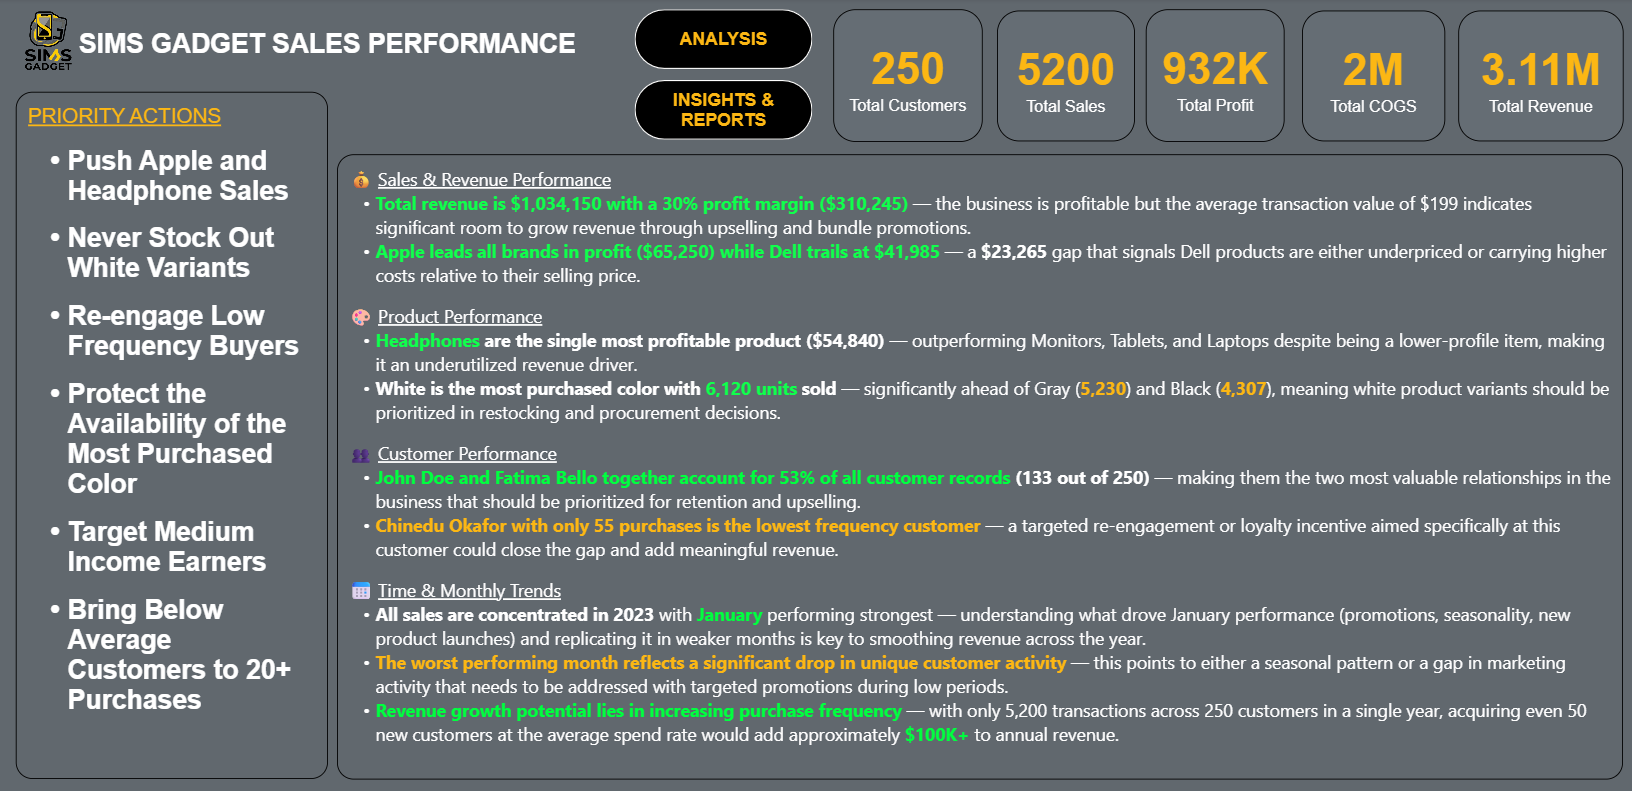

This screenshot's page, from the dashboard's own definition file:
{"tool":"powerbi","page":{"name":"INSIGHTS & REPORTS","canvas":[1480,720],"ordinal":1},"visuals":[{"type":"card","fields":{"Values":["Sum(Sales.Revenue)"]},"box":[1321.2,11.9,149.6,118.7],"z":0},{"type":"card","fields":{"Values":["Sum(Sales.COGS)"]},"box":[1179.9,11.9,129.4,118.7],"z":1000},{"type":"card","fields":{"Values":["Sum(Sales.Profit)"]},"box":[1038.7,10.7,125.8,119.9],"z":2000},{"type":"card","fields":{"Values":["Customers.Total Customers"]},"box":[756.1,10.7,135.3,119.9],"z":3000},{"type":"textbox","box":[55.8,23.7,486.7,54.6],"z":4000},{"type":"card","fields":{"Values":["Sales.Total Purchase"]},"box":[904.5,11.9,124.6,118.7],"z":5000},{"type":"image","box":[0,1.2,92.6,76],"z":6000},{"type":"textbox","box":[17,84.8,282.7,621.9],"z":7000},{"type":"textbox","box":[307.5,141.3,1163.4,565.3],"z":8000},{"type":"pageNavigator","box":[576.9,10.7,161.4,119.9],"z":9000}]}

Visuals, with their boxes in screenshot pixels (x1, y1, x2, y2), scaled from the page's 1480x720 canvas onto the 1632x791 screenshot:
card - Sum(Sales.Revenue): <region>1457, 13, 1622, 143</region>
card - Sum(Sales.COGS): <region>1301, 13, 1444, 143</region>
card - Sum(Sales.Profit): <region>1145, 12, 1284, 143</region>
card - Customers.Total Customers: <region>834, 12, 983, 143</region>
textbox: <region>62, 26, 598, 86</region>
card - Sales.Total Purchase: <region>997, 13, 1135, 143</region>
image: <region>0, 1, 102, 85</region>
textbox: <region>19, 93, 330, 776</region>
textbox: <region>339, 155, 1622, 776</region>
pageNavigator: <region>636, 12, 814, 143</region>
